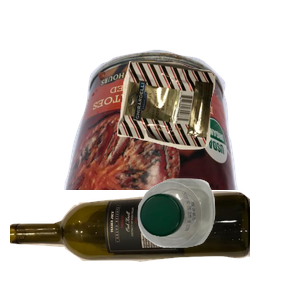glass: (10, 189, 250, 300)
metal: (62, 47, 300, 227)
plastic: (135, 176, 300, 300)
trash: (115, 58, 300, 200)
